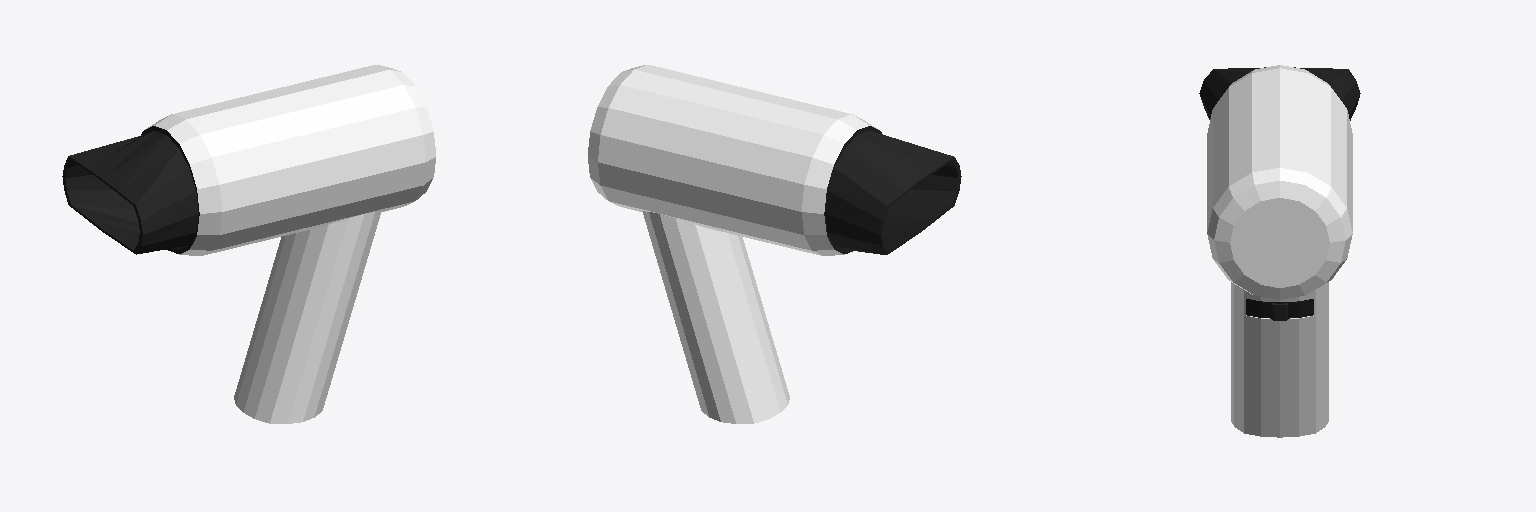
The model's file is secheCheveux.obj.
The picture shows the model from 3 angles: view 1: azimuth 30°, elevation 25°; view 2: azimuth 150°, elevation 25°; view 3: azimuth 270°, elevation 25°; orthographic projection.
Parts seen in each view (by area): view 1: Cylinder_12, Boolean_3, Boolean_1; view 2: Cylinder_12, Boolean_3, Boolean_1; view 3: Cylinder_12, Boolean_3, Cylinder_12_2, Boolean_1, Boolean_4.
Boxes of the visible parts, box(x1,y1,x2,y2) form: Cylinder_12: box(145, 65, 435, 255); Boolean_3: box(234, 211, 381, 423); Boolean_1: box(62, 131, 198, 254); Cylinder_12: box(588, 65, 878, 255); Boolean_3: box(642, 211, 789, 423); Boolean_1: box(825, 131, 961, 254); Cylinder_12: box(1207, 65, 1352, 299); Boolean_3: box(1231, 282, 1328, 437); Cylinder_12_2: box(1230, 198, 1329, 287); Boolean_1: box(1199, 67, 1360, 120); Boolean_4: box(1246, 299, 1313, 318).
Size of the model in its own units: 15.8 by 15.14 by 7.2.